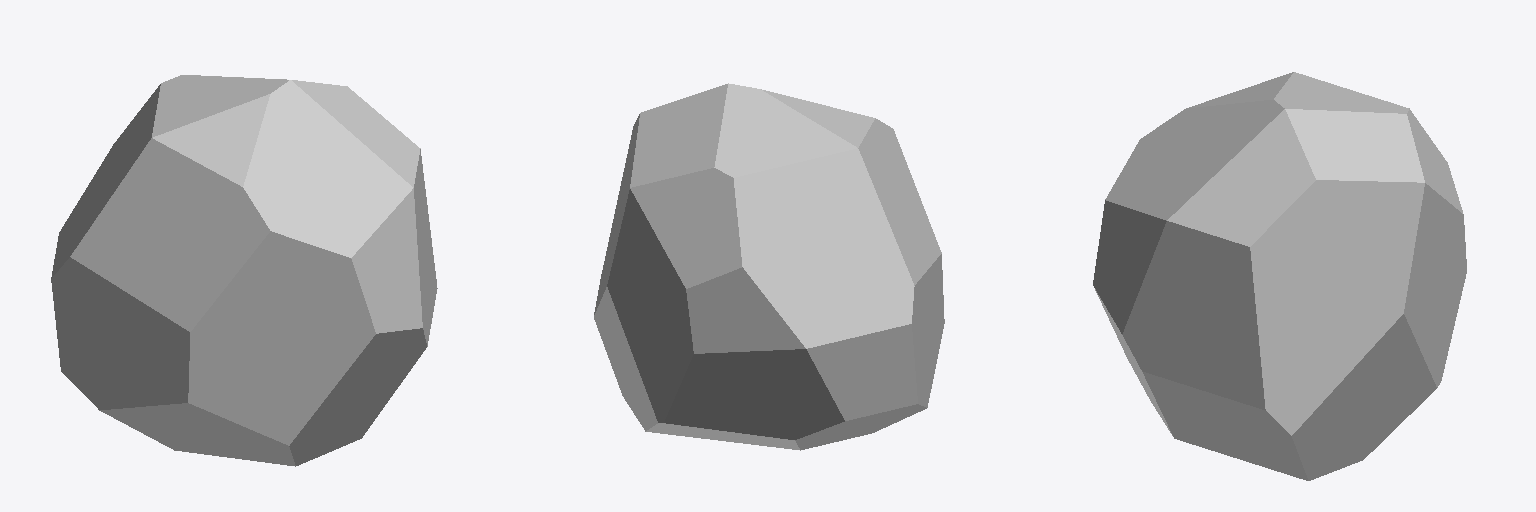
Rendered from Prop_Decorative_Rock_4.obj.
3 renders of one model, left to right at view 1: azimuth 30°, elevation 25°; view 2: azimuth 150°, elevation 25°; view 3: azimuth 270°, elevation 25°, orthographic.
Parts seen in each view (by area): view 1: Rock; view 2: Rock; view 3: Rock.
Boxes of the visible parts, x1=… form: Rock: x1=51, y1=75, x2=437, y2=466; Rock: x1=594, y1=83, x2=944, y2=450; Rock: x1=1093, y1=72, x2=1466, y2=480.
Size of the model in its own units: 1.1 by 0.9967 by 1.02.